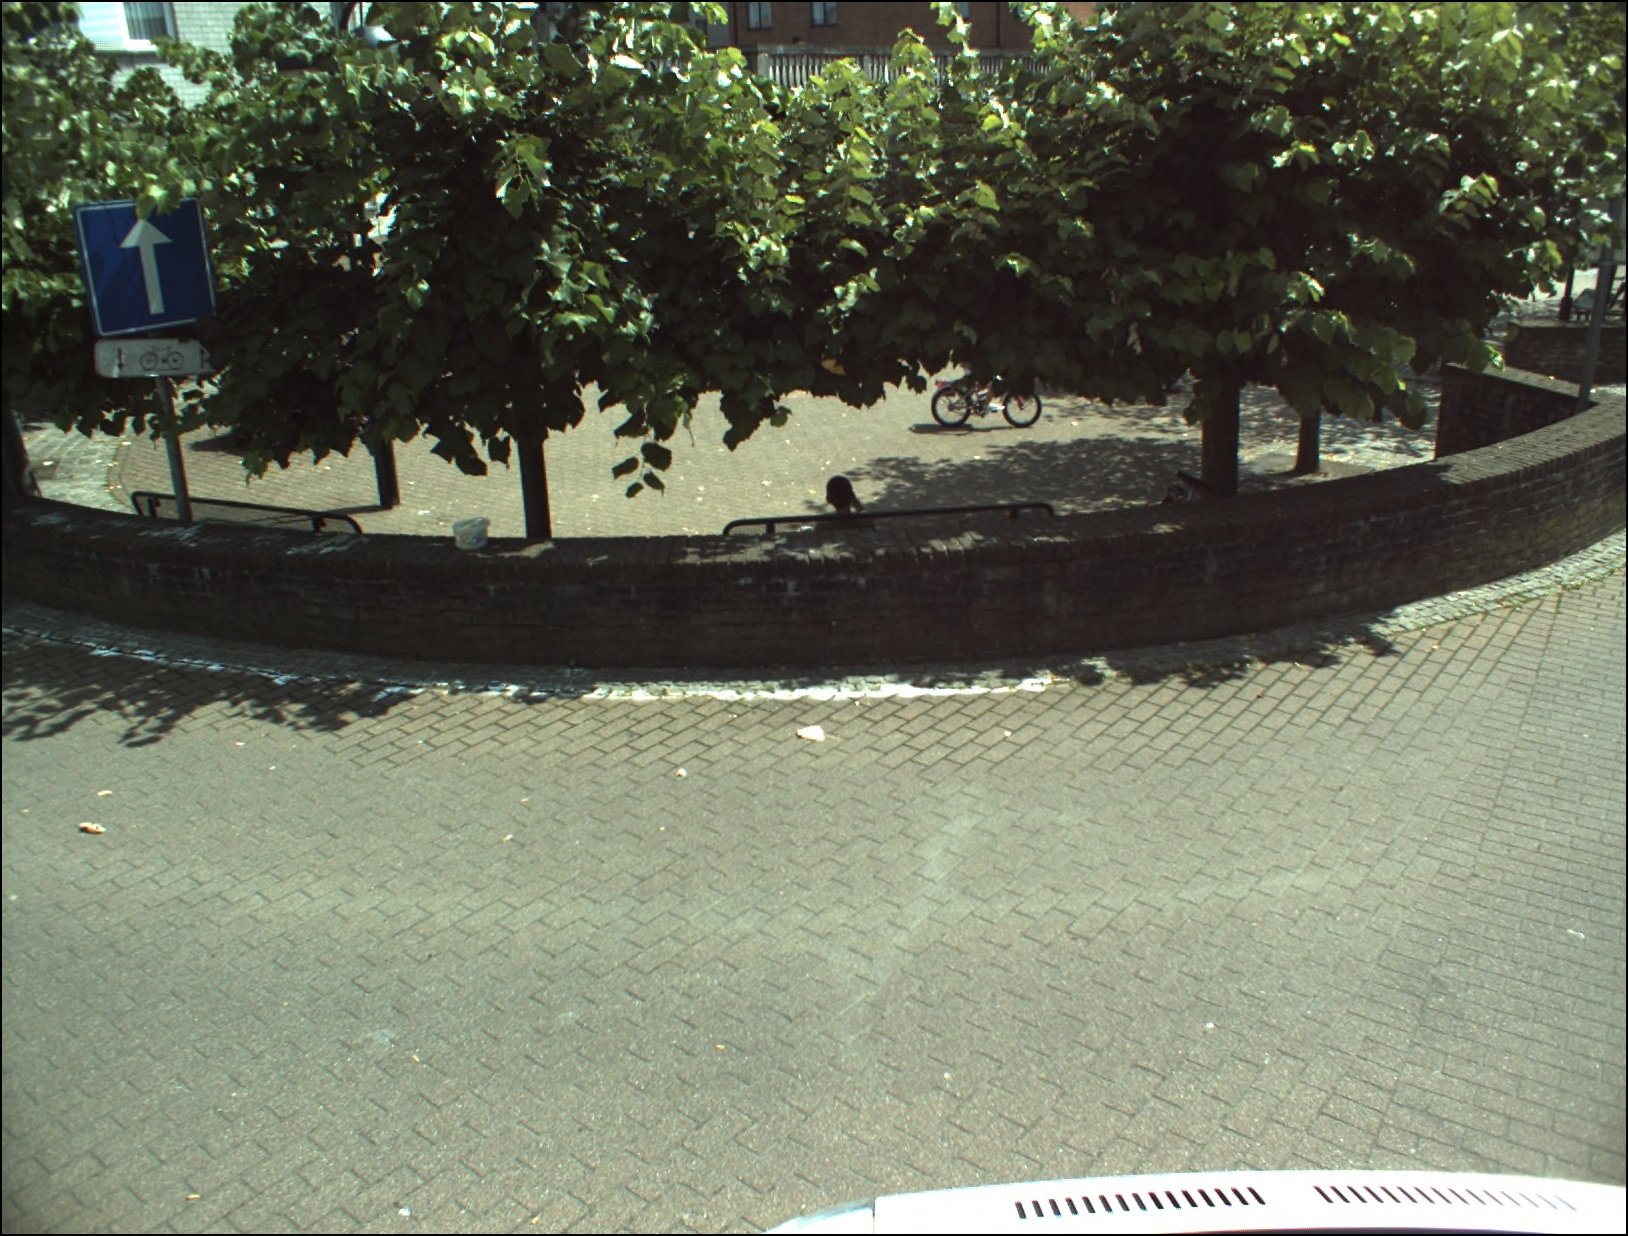oneway: (79, 204, 210, 332)
